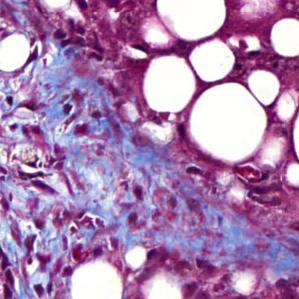steatosis: (143, 59, 195, 110), (189, 41, 237, 79)
